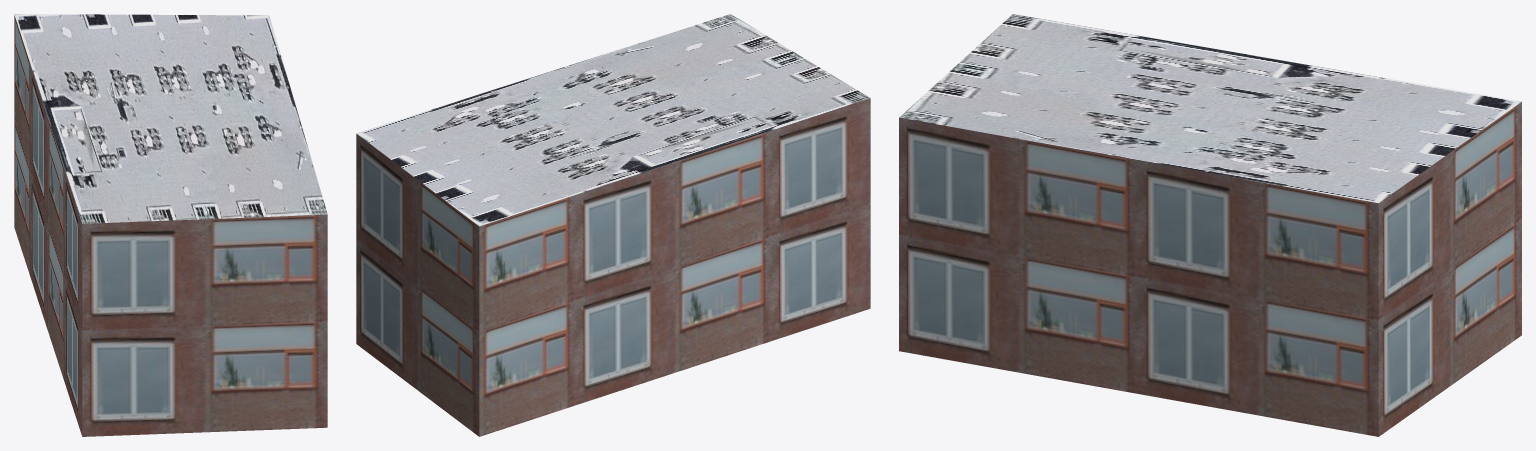
Rendered from ResTex__753.fbx.
3 renders of one model, left to right at view 1: azimuth 30°, elevation 25°; view 2: azimuth 150°, elevation 25°; view 3: azimuth 270°, elevation 25°, orthographic. The views are drawn at different scales.
Parts seen in each view (by area): view 1: CityEngineMaterial_19_m, CityEngineMaterial_15_m; view 2: CityEngineMaterial_19_m, CityEngineMaterial_15_m; view 3: CityEngineMaterial_19_m, CityEngineMaterial_15_m.
Boxes of the visible parts, x1,y1,x2,y2 form: CityEngineMaterial_19_m: [14, 15, 327, 436]; CityEngineMaterial_15_m: [14, 14, 327, 223]; CityEngineMaterial_19_m: [356, 98, 870, 436]; CityEngineMaterial_15_m: [356, 14, 870, 226]; CityEngineMaterial_19_m: [899, 102, 1521, 436]; CityEngineMaterial_15_m: [899, 14, 1521, 203].
Size of the model in its own units: 10.43 by 6 by 14.5.
Materials: 2 (2 with a texture image).
